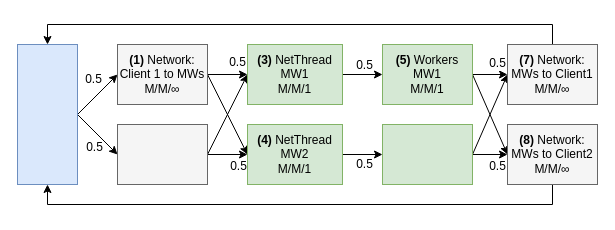
The diagram is 615 pixels wide and 230 high, and some of its shapes have lost their labels. Each missing label, with the centre of its shape:
(2) Network: Client 2 to MWs M/M/ ∞: the point at 162,154
(6) Workers MW2 M/M/ 1: the point at 427,154
Memtier Clients: the point at 47,114
